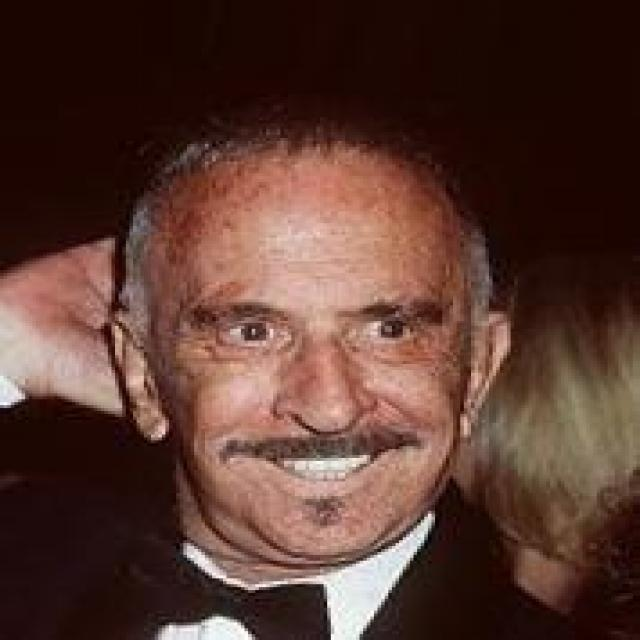nomask: (118, 129, 582, 552)
